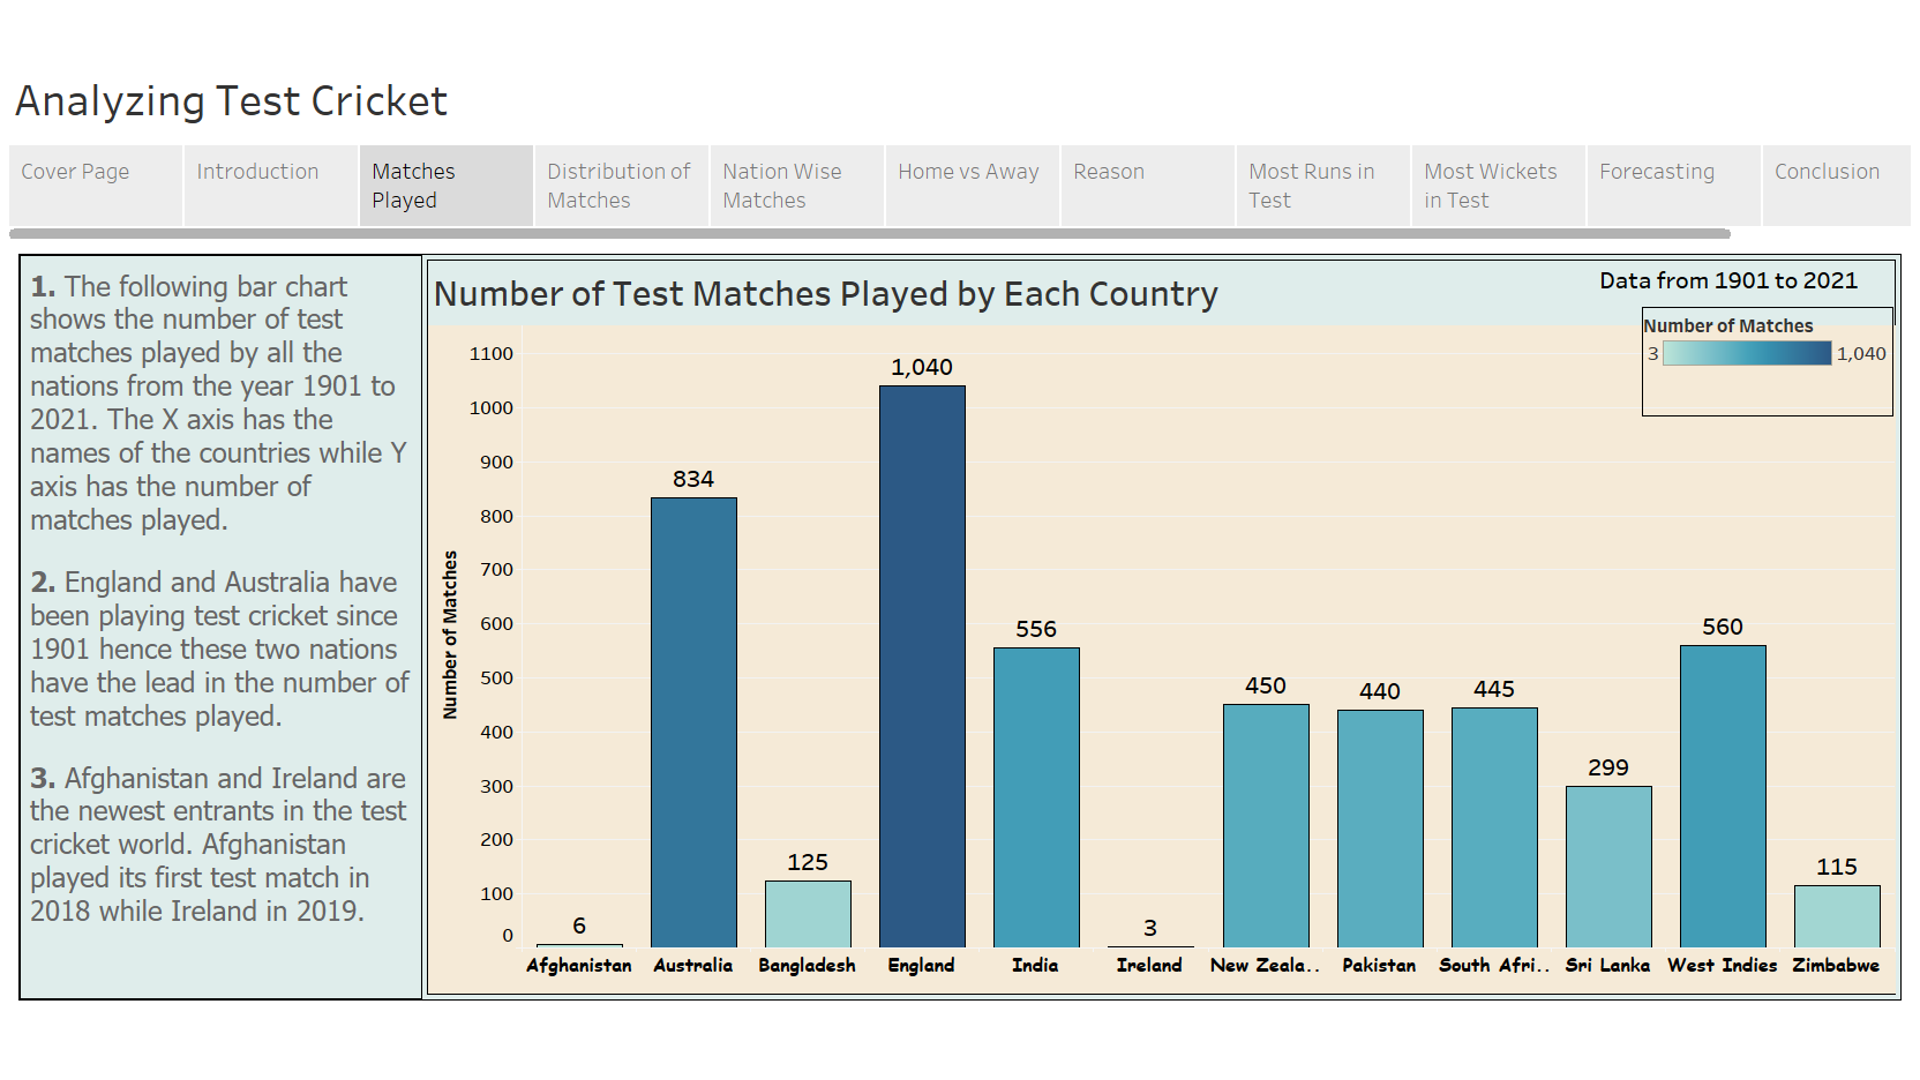

The page's visual inventory and layout, read from the dashboard file:
{"tool":"tableau","page":{"name":"Slide 1 text","canvas":[1000,1000],"units":"permille","ordinal":6},"visuals":[{"type":"worksheet","title":"Number of Test Matches Played by Each Country","mark":"Bar","rows":["F2"],"cols":["F1"],"box":[217.2,10.8,777.4,978.3]},{"type":"text","box":[6,12,210.6,938.6]},{"type":"text","box":[834,26.5,144.9,36.1]},{"type":"legend","title":"Number of Test Matches Played by Each Country","param":"[federated.0zso2th00zmv1h1cisio41f9zazf].[sum:F2:qk]","box":[858.8,81.9,131.8,142.2]}]}

Visuals, with their boxes on the dashboard's canvas, which has no fixed pixel size, in thousandths of its width and height (x1, y1, x2, y2). These are canvas units, not pixel positions in the 1920x1080 screenshot, which may show the page scaled, cropped or inside an application window:
"Number of Test Matches Played by Each Country" worksheet (Bar marks): [217, 11, 995, 989]
text: [6, 12, 217, 951]
text: [834, 26, 979, 63]
"Number of Test Matches Played by Each Country" legend: [859, 82, 991, 224]
